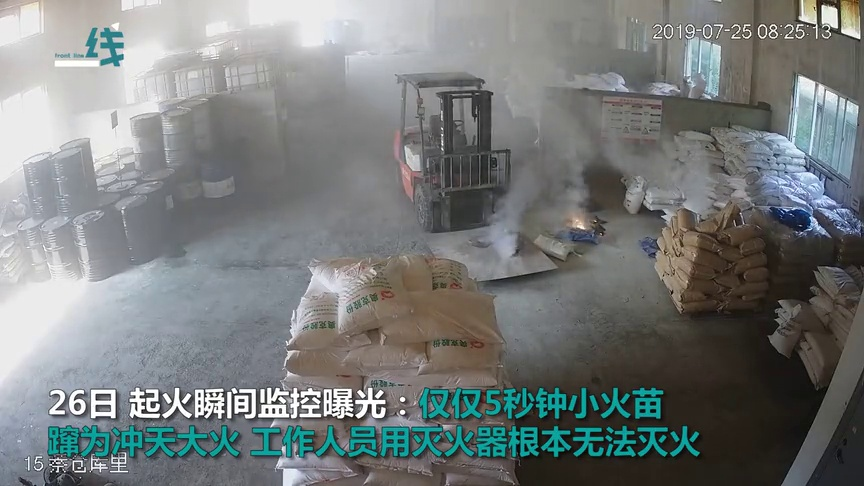smoke: (538, 96, 590, 216), (494, 148, 549, 248), (603, 126, 675, 181)
